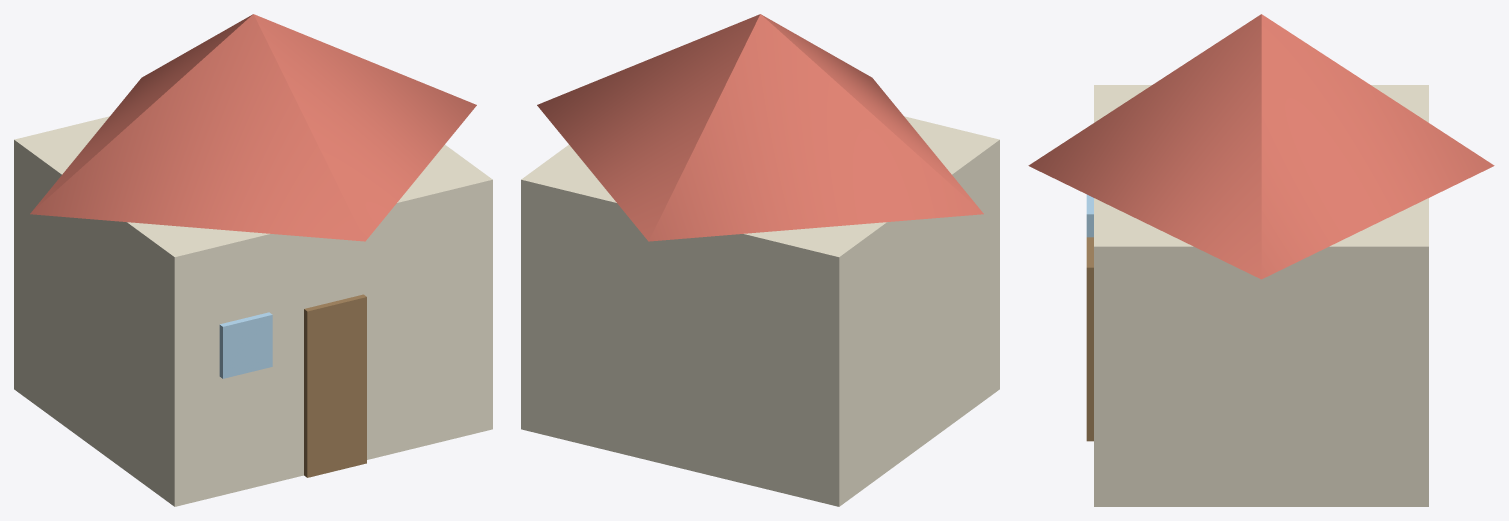
Rendered from house.glb.
3 renders of one model, left to right at view 1: azimuth 30°, elevation 25°; view 2: azimuth 150°, elevation 25°; view 3: azimuth 270°, elevation 25°, orthographic. The views are drawn at different scales.
Bounding box in the file's own units: 2.25 × 1.9 × 1.95.
